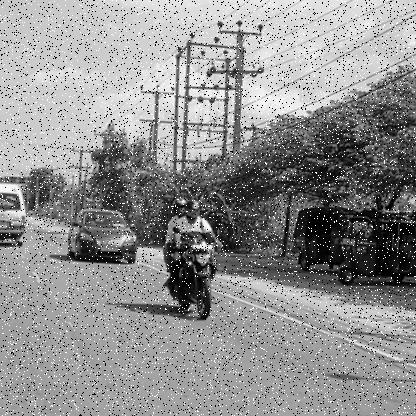motorcycle: (157, 240, 227, 324)
